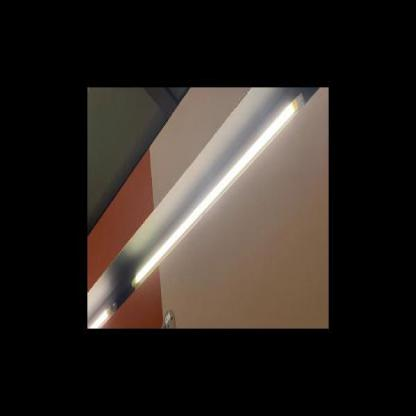light_on: (126, 87, 306, 301), (87, 293, 111, 328)
